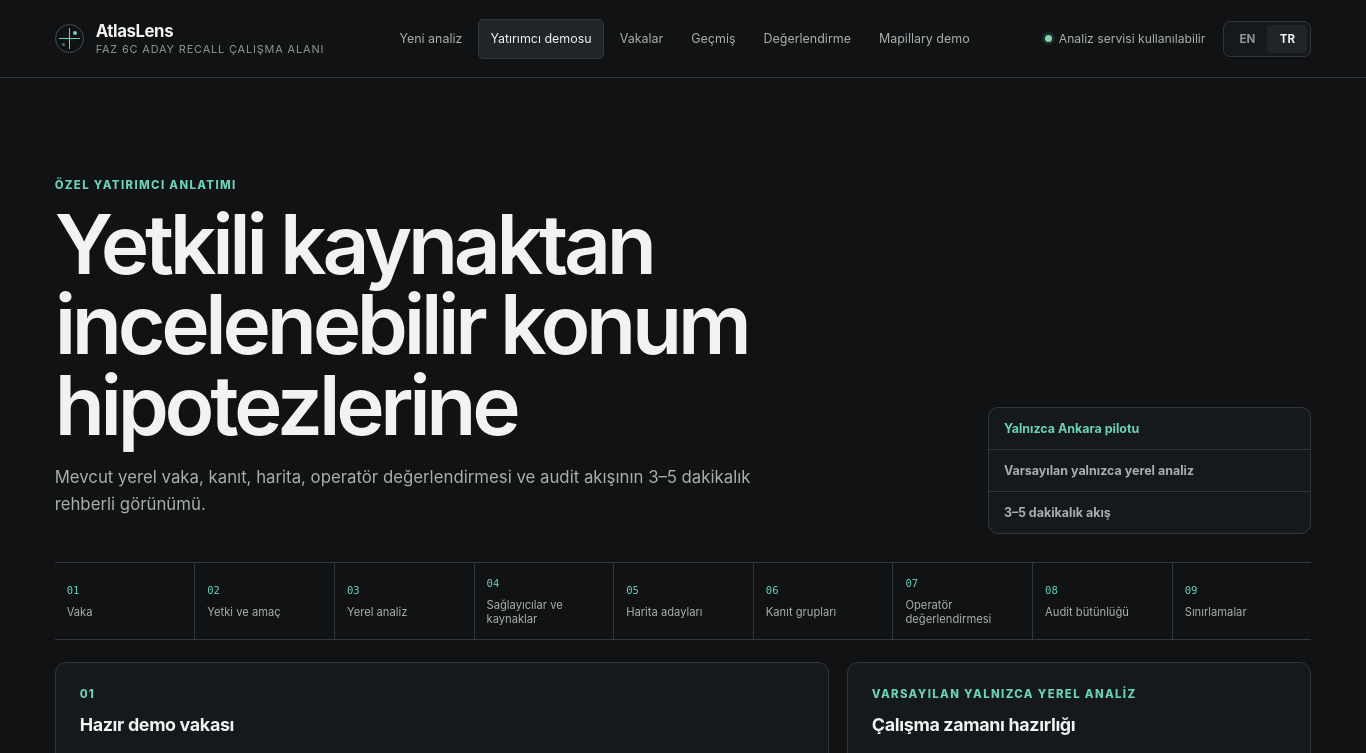
Test: Phase 3D guided investor demo › keeps the language switcher active and the landing locale reload-stable
This screenshot has width=1366, height=753.
Expected: the heading "Yetkili kaynaktan incelenebilir konum hipotezlerine" is shown, [55, 195, 747, 455]
Step 1. Click the button "EN" → (1247, 38), box [1227, 24, 1267, 52]
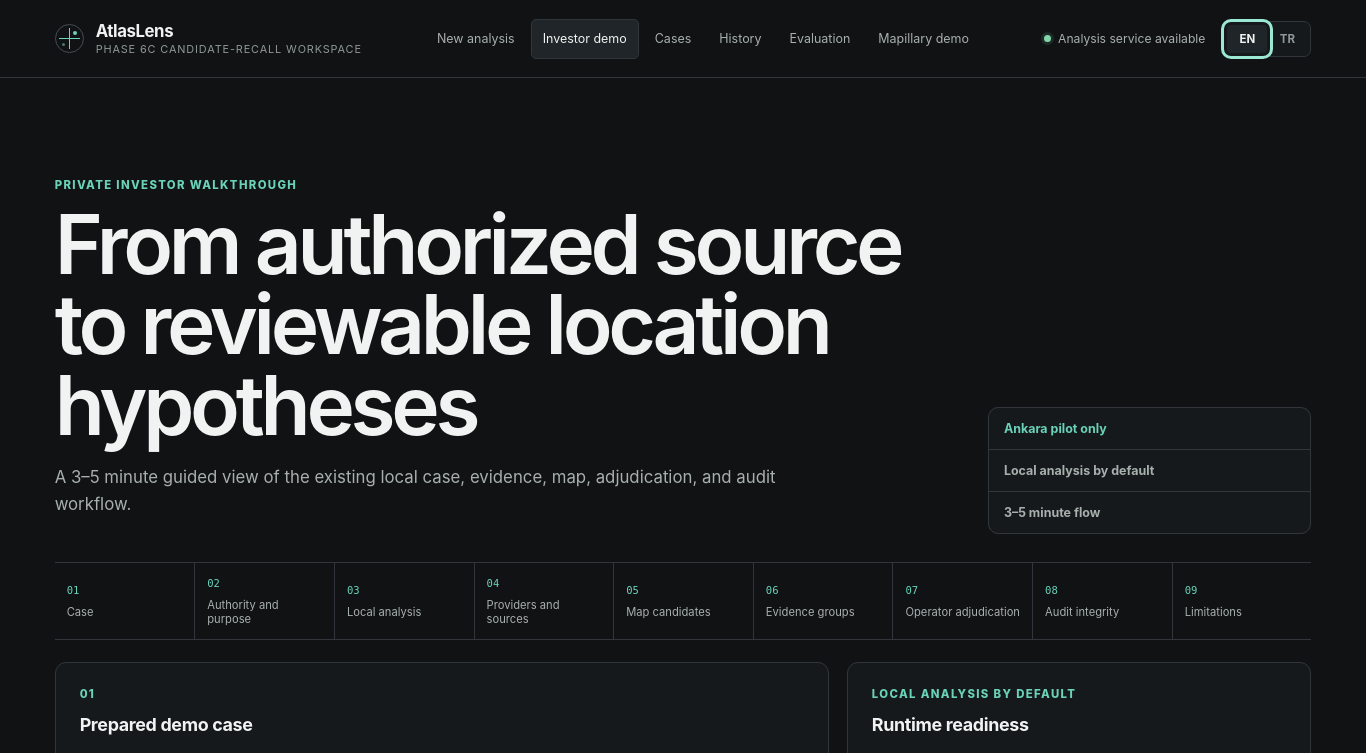
Expected: the heading "From authorized source to reviewable location hypotheses" is shown, [55, 205, 906, 446]
